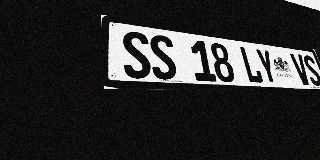1: (189, 39, 217, 82)
8: (209, 42, 236, 82)
L: (239, 46, 264, 84)
S: (121, 30, 153, 79), (148, 34, 178, 80), (301, 55, 320, 86)
V: (289, 53, 312, 85)
Y: (254, 48, 279, 84)
